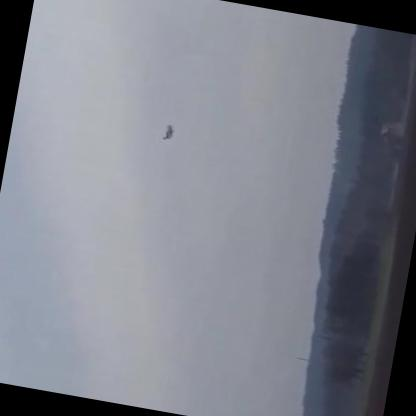plane: (161, 122, 177, 140)
